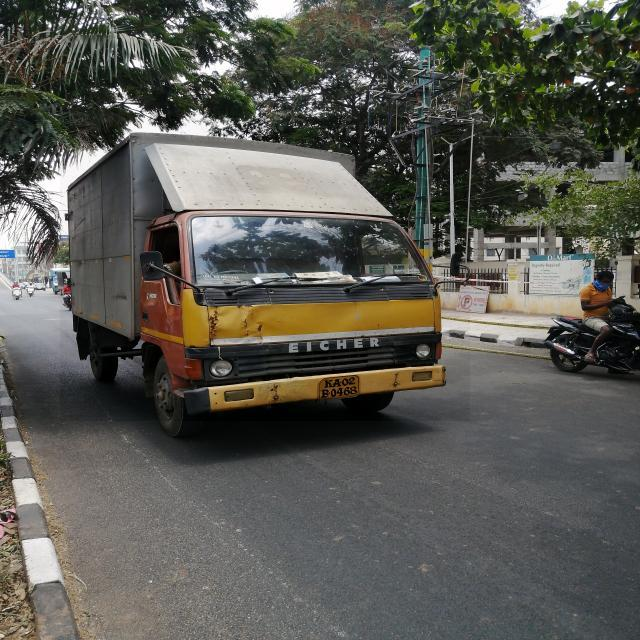Truck: (60, 116, 470, 421)
